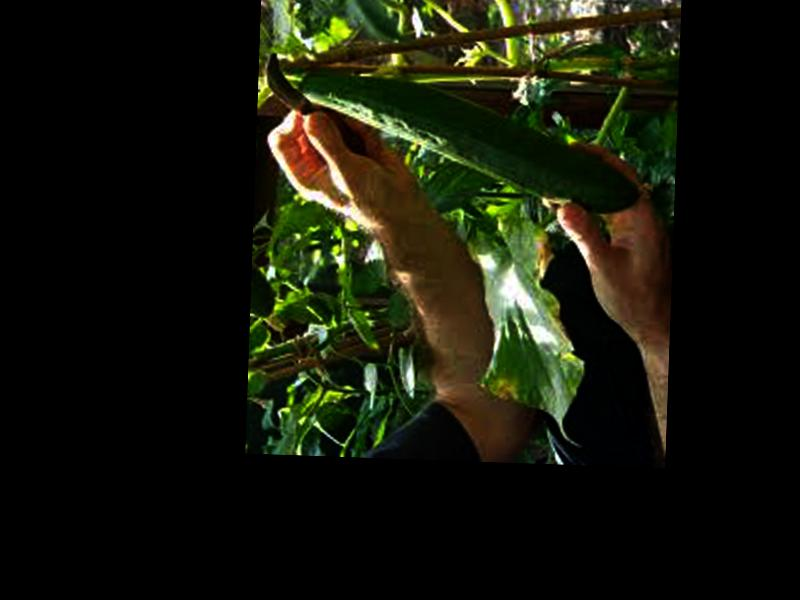Cucumber: (297, 70, 642, 213)
